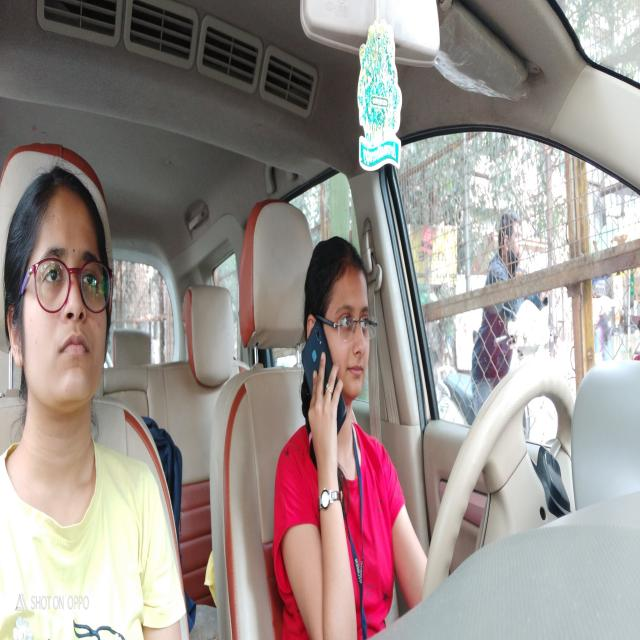mobile: (302, 309, 348, 450)
person: (4, 142, 120, 440), (292, 216, 387, 469)
